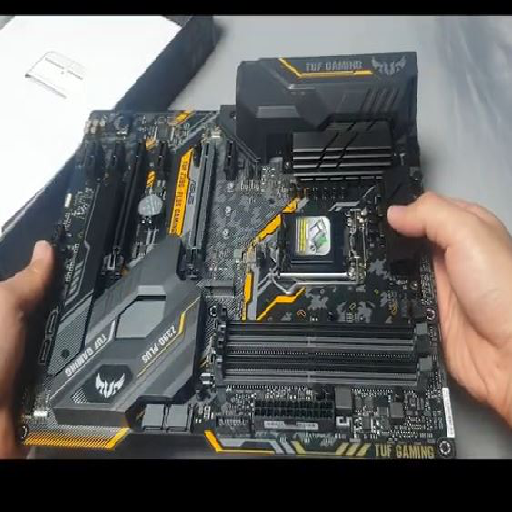CPU: (263, 210, 361, 277)
GPU: (101, 135, 147, 278), (176, 139, 216, 280)
MOTHERBOARD: (28, 105, 458, 462)
RAM: (210, 303, 431, 392)
SSD: (200, 280, 236, 297)
